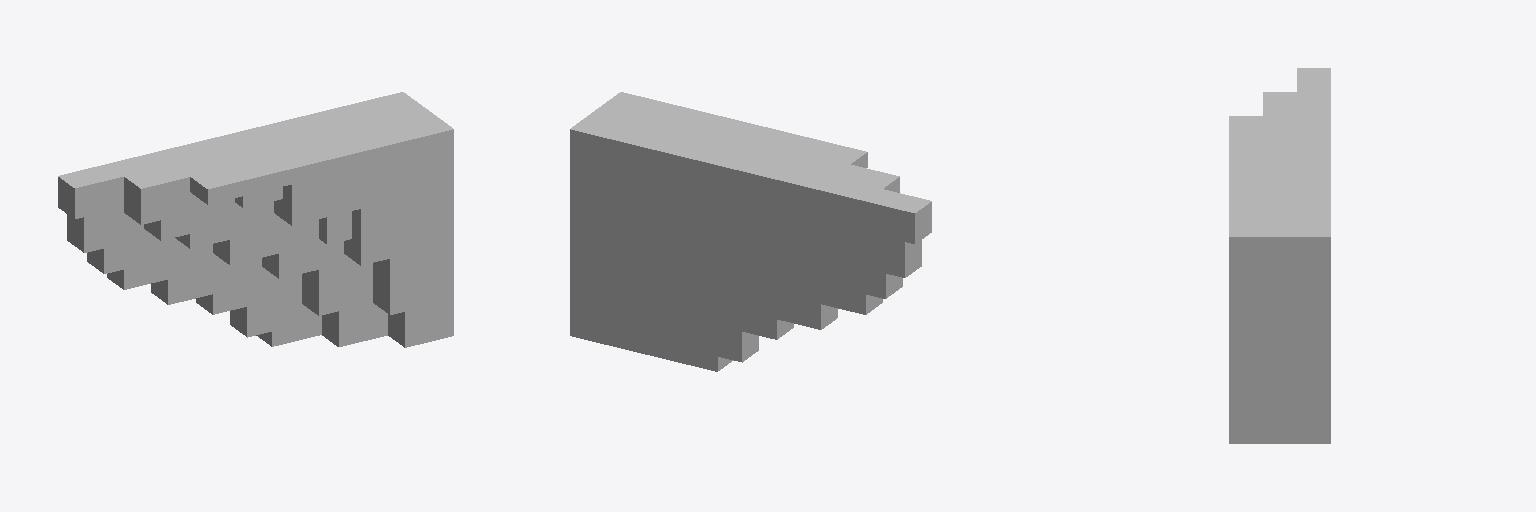
File: joiner 1x2.obj
3 renders of one model, left to right at view 1: azimuth 30°, elevation 25°; view 2: azimuth 150°, elevation 25°; view 3: azimuth 270°, elevation 25°, orthographic.
Bounding box in the file's own units: 70 × 40 × 18.